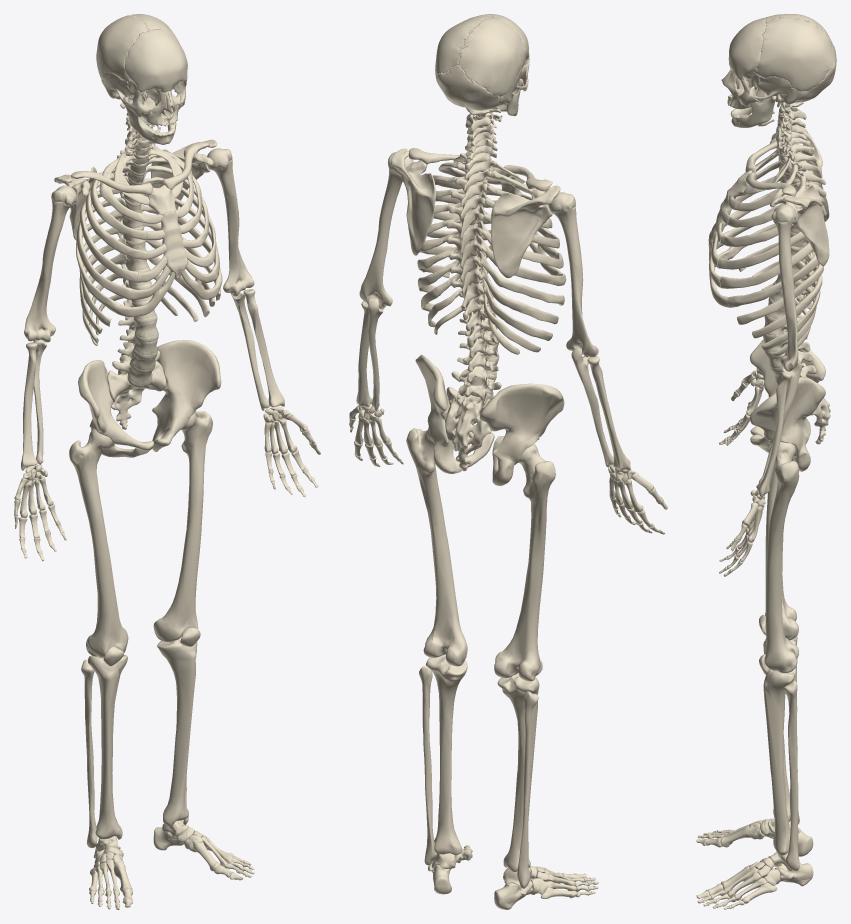
The model's file is skeleton.glb.
3 views of the same model, side by side, from view 1: azimuth 30°, elevation 25°; view 2: azimuth 150°, elevation 25°; view 3: azimuth 270°, elevation 25° (orthographic). The views are drawn at different scales.
Visible parts, largest first — view 1: FJ3365, FJ3259, FJ3288, FJ3282, FJ3200, FJ3387, FJ3152, FJ3368, FJ3262, FJ3380, FJ3393, FJ3366 (+17 smaller); view 2: FJ3365, FJ3259, FJ3152, FJ3380, FJ3384, FJ3282, FJ3387, FJ3288, FJ3368, FJ3279, FJ3393, FJ3262 (+14 smaller); view 3: FJ3259, FJ3274, FJ3282, FJ3288, FJ3262, FJ3279, FJ3260, FJ3200, FJ3152, FJ3365, FJ3277, FJ3281 (+24 smaller).
Boxes of the visible parts, box(x1,y1,x2,y2) form: FJ3365: box(69, 428, 128, 657); FJ3259: box(153, 411, 212, 642); FJ3288: box(152, 340, 221, 451); FJ3282: box(157, 636, 197, 826); FJ3200: box(125, 28, 187, 93); FJ3387: box(88, 654, 127, 839); FJ3152: box(78, 360, 153, 457); FJ3368: box(24, 185, 76, 342); FJ3262: box(207, 148, 254, 296); FJ3380: box(96, 15, 149, 81); FJ3393: box(107, 361, 166, 429); FJ3366: box(81, 659, 97, 848); FJ3365: box(494, 444, 555, 681); FJ3259: box(406, 428, 467, 666); FJ3152: box(479, 383, 564, 485); FJ3380: box(458, 16, 526, 96); FJ3384: box(491, 185, 560, 278); FJ3282: box(425, 654, 467, 854); FJ3387: box(497, 673, 539, 871); FJ3288: box(415, 354, 494, 473); FJ3368: box(549, 192, 598, 357); FJ3279: box(391, 148, 435, 255); FJ3393: box(445, 387, 491, 471); FJ3262: box(359, 152, 413, 309); FJ3259: box(764, 442, 799, 673); FJ3274: box(755, 17, 834, 91); FJ3282: box(763, 668, 795, 855); FJ3288: box(750, 377, 825, 471); FJ3262: box(771, 204, 798, 371); FJ3279: box(770, 184, 829, 266); FJ3260: box(783, 680, 799, 870); FJ3200: box(728, 17, 767, 80); FJ3152: box(750, 330, 825, 444); FJ3365: box(765, 460, 798, 640); FJ3277: box(756, 371, 792, 497); FJ3281: box(753, 76, 807, 107).
Size of the model in its own units: 0.6478 by 1.71 by 0.254.
